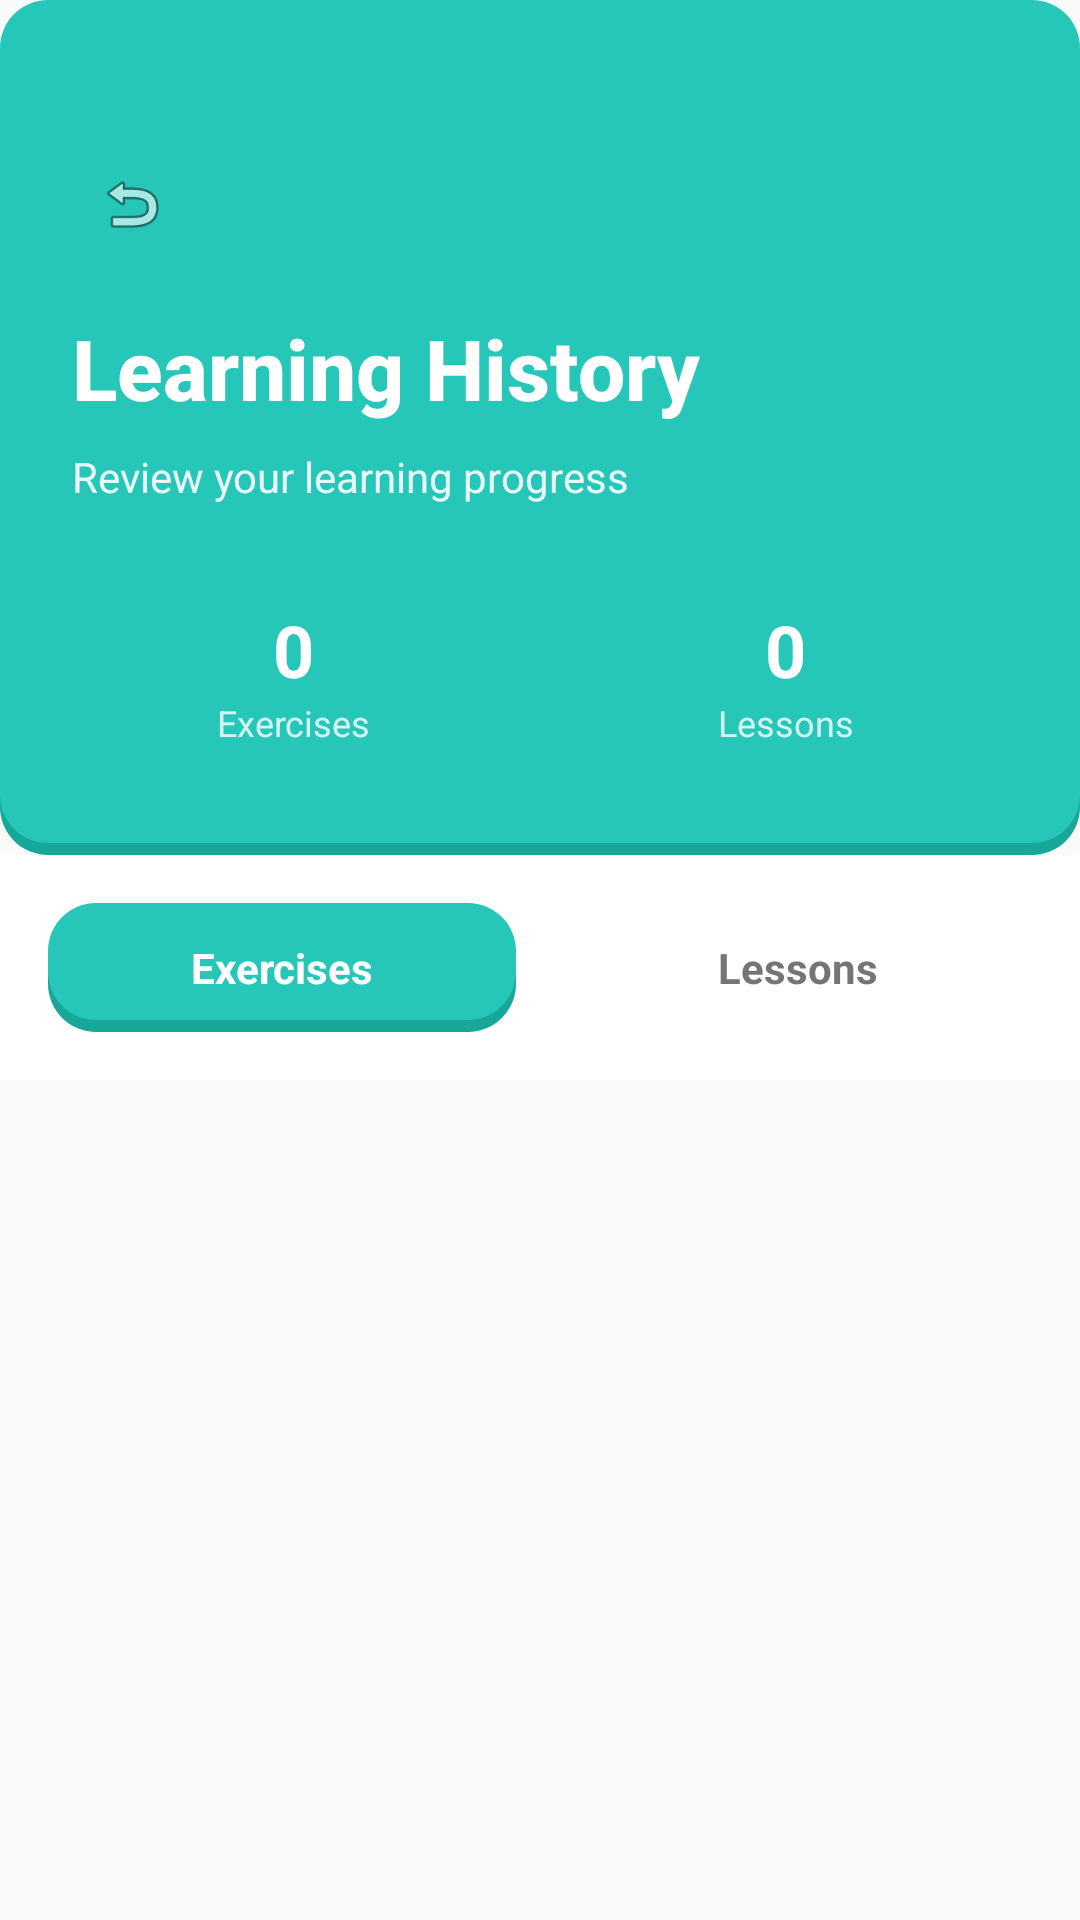

Where to tap for icons on this 1080*1920 app screen, as [x,y]:
Back: [133,204]
